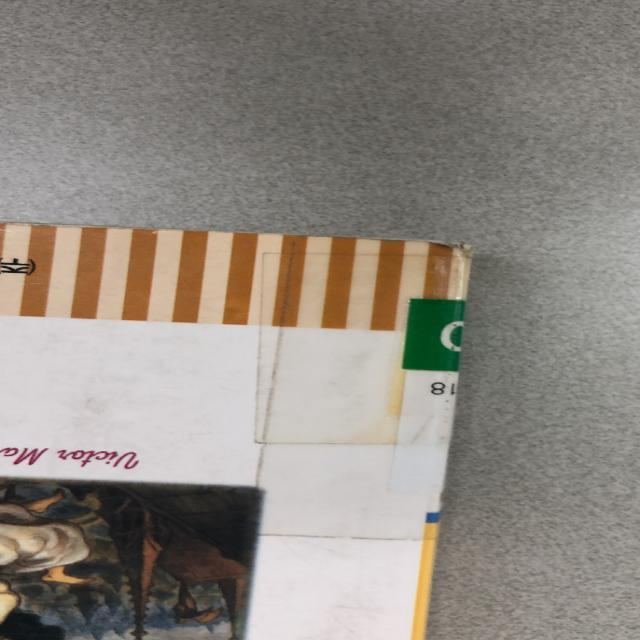Ripped: (426, 233, 477, 273)
Wornout: (0, 218, 179, 240), (325, 231, 425, 249)
